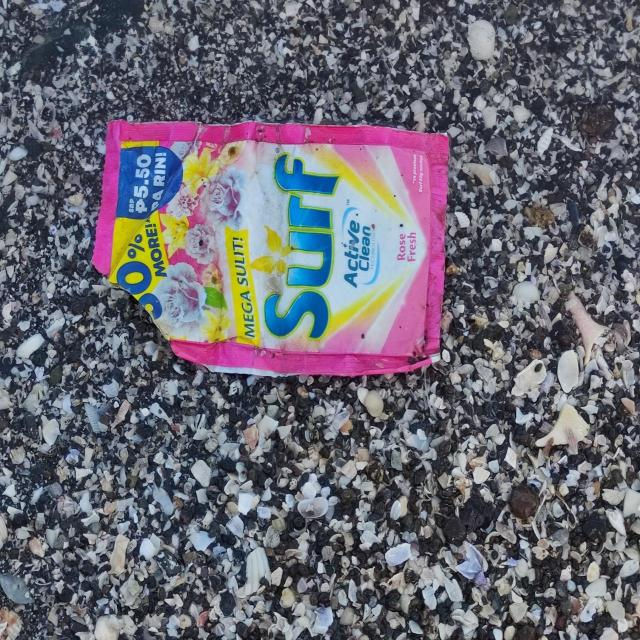plastic_waste: (95, 122, 451, 378)
